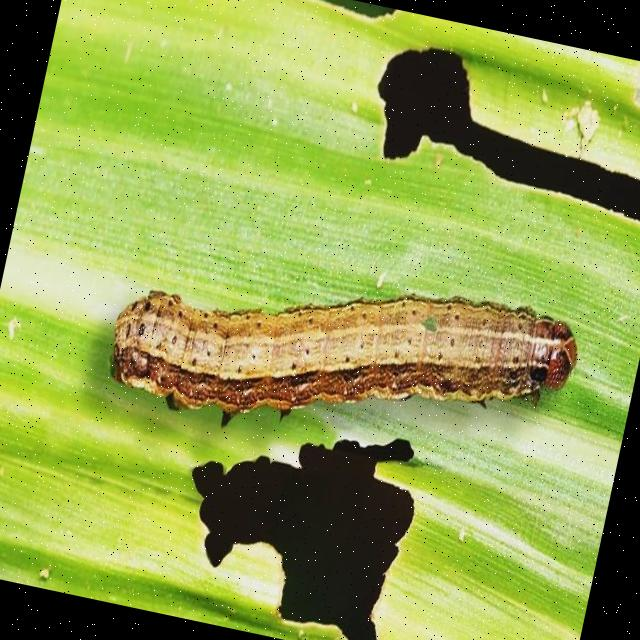worm: (100, 222, 589, 498)
